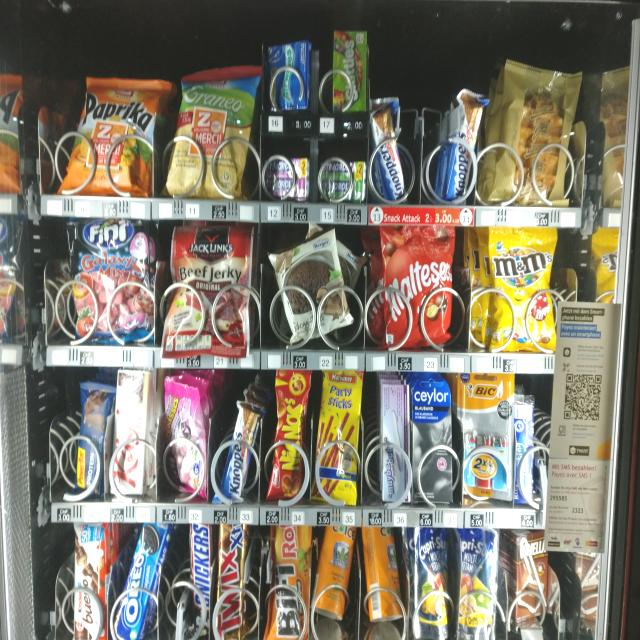airwaves_menthoneucalyptus_riegel_14_1_50173167: (268, 42, 310, 113)
bifi_roll__50__4251097402635: (266, 522, 312, 638)
bueno___43__4008400320328: (73, 520, 107, 637)
c-swiss_dosenabisicetea__33__9120025930135: (362, 522, 404, 622), (317, 521, 353, 621)
caprisun_multivitamin__20__4000177605004: (455, 526, 500, 638), (411, 524, 453, 640)
comella_schokodrink__33__7613100037253: (510, 527, 550, 633)
fini_galaxymix_packung_100_1_8410525150364: (66, 214, 155, 345)
fini_jellykisses_packung_80_1_8410525116704: (162, 380, 209, 498)
jacklinks_beefjerkyorginal__25__4047751730219: (165, 222, 250, 359)
jlbrichard_gauffre__90__5410495002000: (498, 54, 575, 202)
kagi___50__7610046000259: (111, 366, 149, 497)
knoppers_riegel____4035800488808: (222, 401, 260, 505), (449, 90, 481, 204), (372, 99, 406, 197)
lorenz_nicnacs__40__4018077798818: (271, 367, 312, 500)
malburner_partysticks__40__7610200279682: (319, 366, 359, 503)
maltesers___100__5000159023061: (380, 224, 456, 346)
mnms_gelb__45__40111445: (488, 224, 559, 352)
oreo___66__84100733: (116, 520, 162, 640)
powerbar_proteinplusschoko__55__4029679520028: (75, 378, 108, 498)
skittles_sour_riegel_51_1_0000000000004: (334, 23, 368, 112)
snickers___50__5000159461122: (186, 519, 215, 638)
stimorol_spearmint_riegel_14_1_0000000000005: (318, 154, 368, 200)
stimorol_wildcherry_riegel_14_1_57060330: (266, 154, 311, 197)
twix___50__5000159459228: (219, 522, 252, 640)
zweifel_graneochilli__100__7610095184009: (167, 65, 259, 197)
zweifel_paprika__90__7610095013002: (61, 69, 157, 193)
